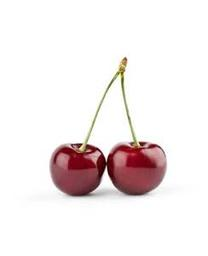cherry: (107, 142, 167, 197), (50, 144, 107, 197)
